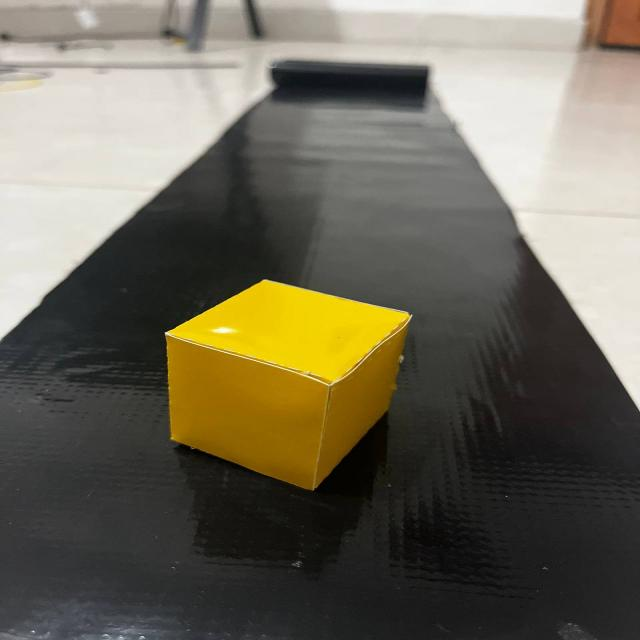Amarillo: (138, 266, 434, 506)
